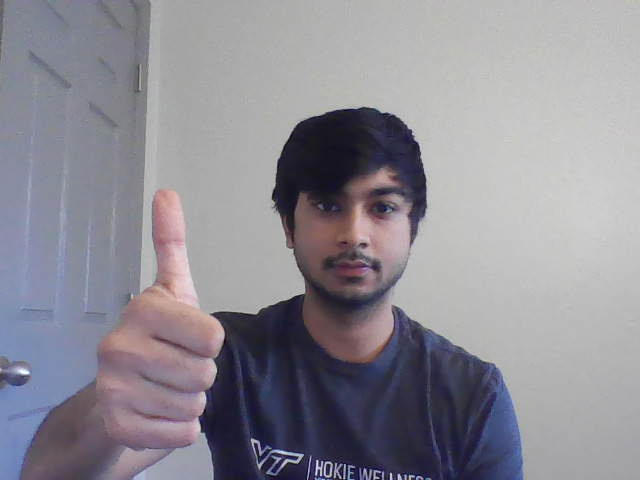confirm: (86, 182, 231, 453)
